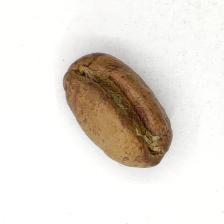NG: (76, 65, 159, 154)
